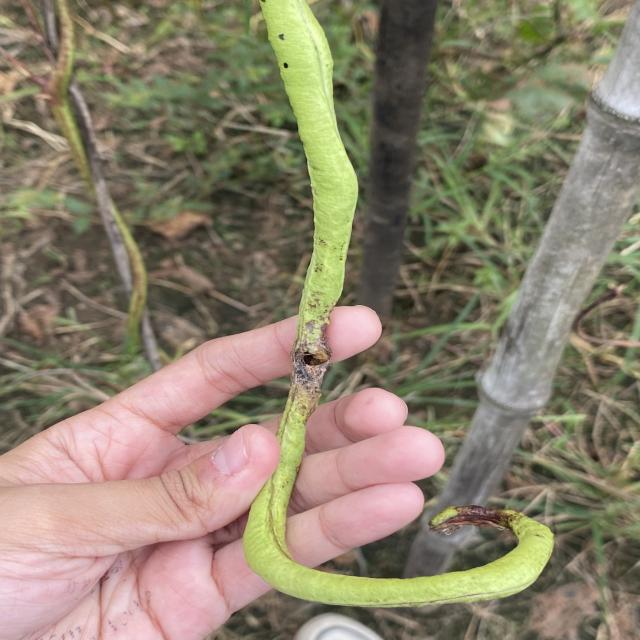sitaw-aphid-moderate: (243, 0, 552, 607)
